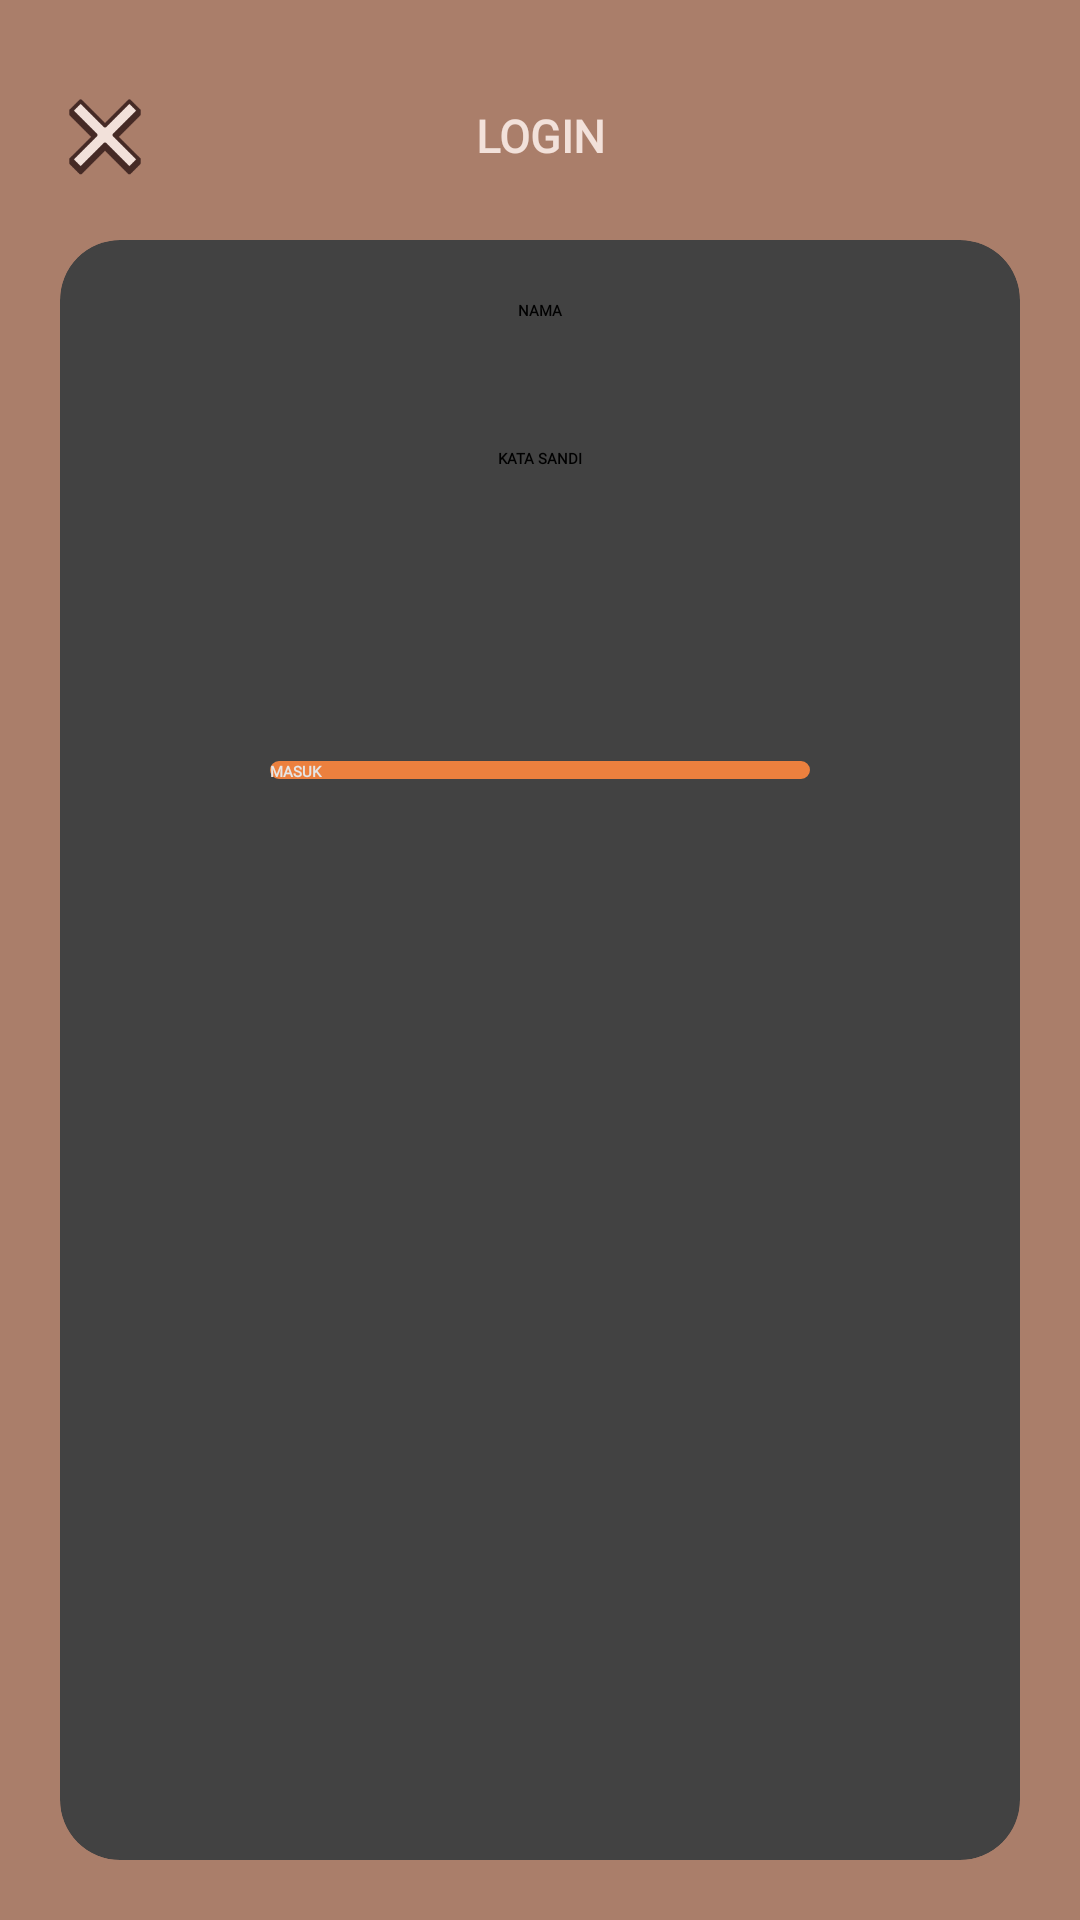

Icon bounding boxes for this 1080x1920 phone screenshot, format (x1, y1, x2, y2):
close: (69, 99, 141, 175)
